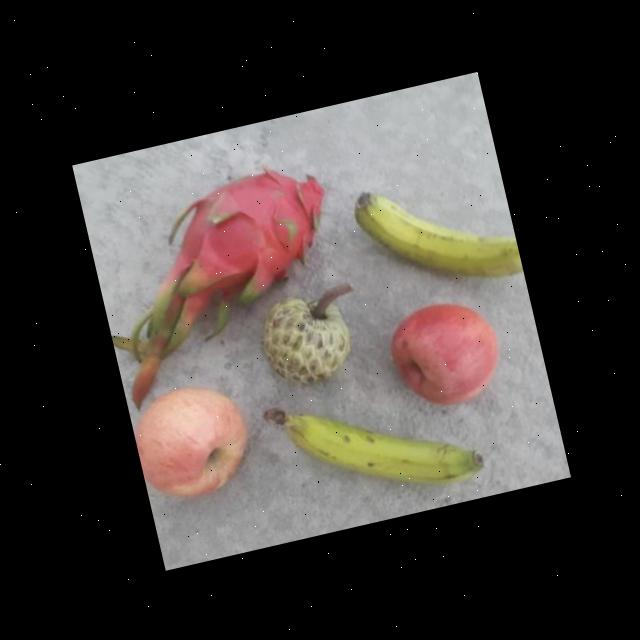Sakya fruit: (248, 281, 369, 396)
apple: (126, 372, 262, 508), (382, 288, 514, 416)
banana: (262, 362, 492, 522), (346, 154, 522, 304)
pitaya: (309, 71, 504, 240)
